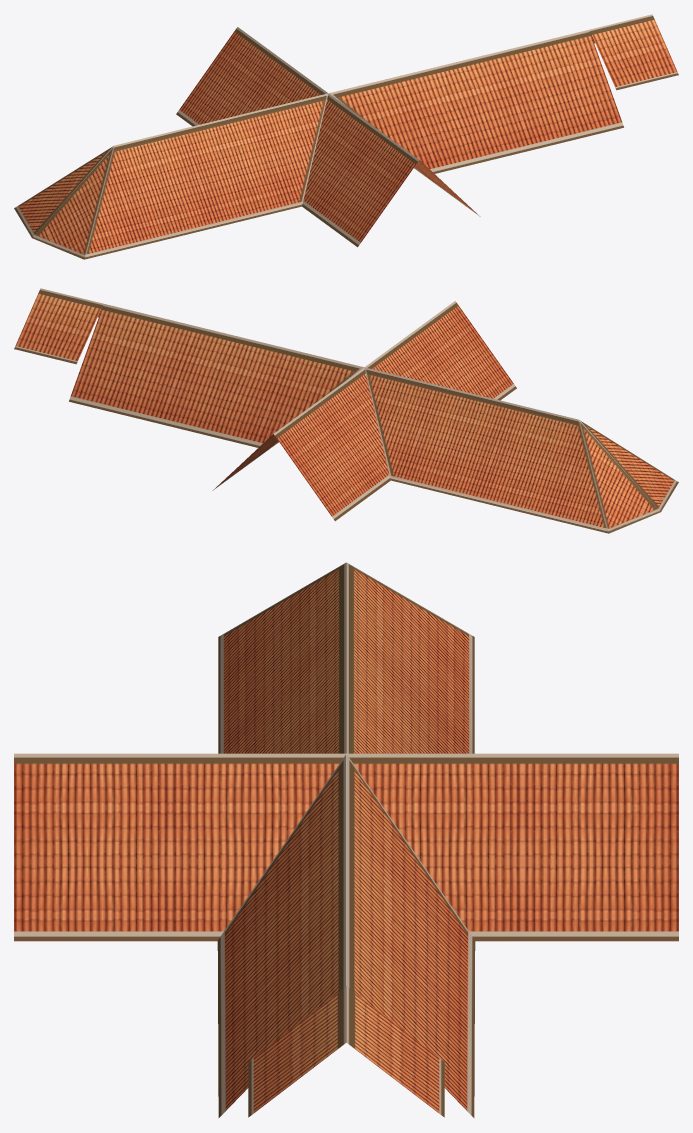
Rendered from NgoiChinh.glb.
3 views of the same model, one above another, from view 1: azimuth 30°, elevation 25°; view 2: azimuth 150°, elevation 25°; view 3: azimuth 270°, elevation 25° (orthographic). The views are drawn at different scales.
Parts seen in each view (by area): view 1: Object_4.001; view 2: Object_4.001; view 3: Object_4.001.
Boxes of the visible parts, left/top/right/bottom form: Object_4.001: left=14, top=14, right=678, bottom=259; Object_4.001: left=14, top=288, right=678, bottom=533; Object_4.001: left=14, top=562, right=678, bottom=1117.
Bounding box in the file's own units: 2.27 × 0.2539 × 1.15.
Materials: 1 (1 with a texture image).
